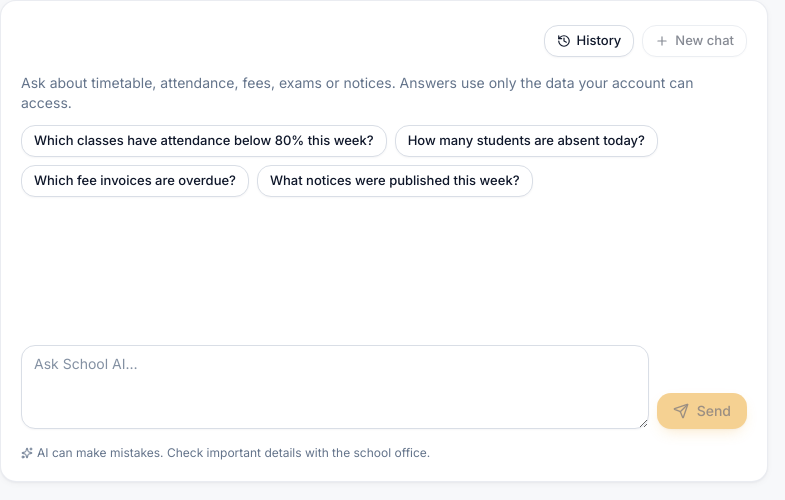
Test case: AssistantTab › shows suggested questions for the role and sends one
Click the button "How many students are absent today?" at {"x": 526, "y": 141}, box [395, 125, 658, 157]
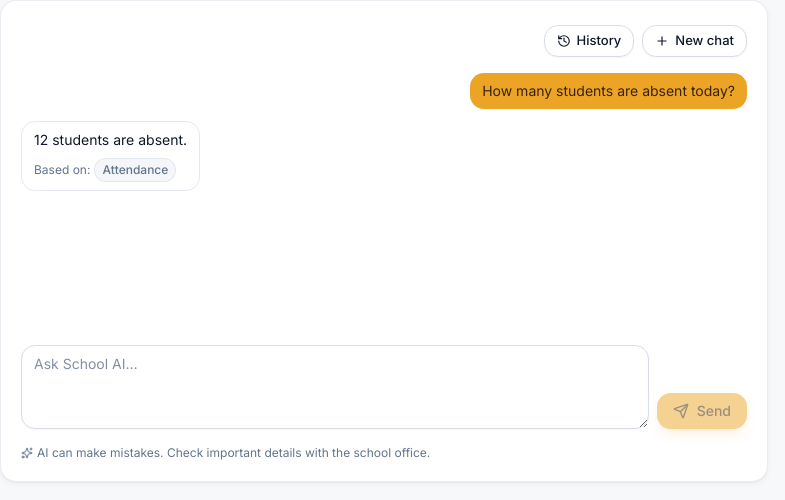
Expected: the text "Attendance" is shown, [94, 158, 176, 182]
Expected: the text "12 students are absent." is shown, [34, 130, 187, 150]
